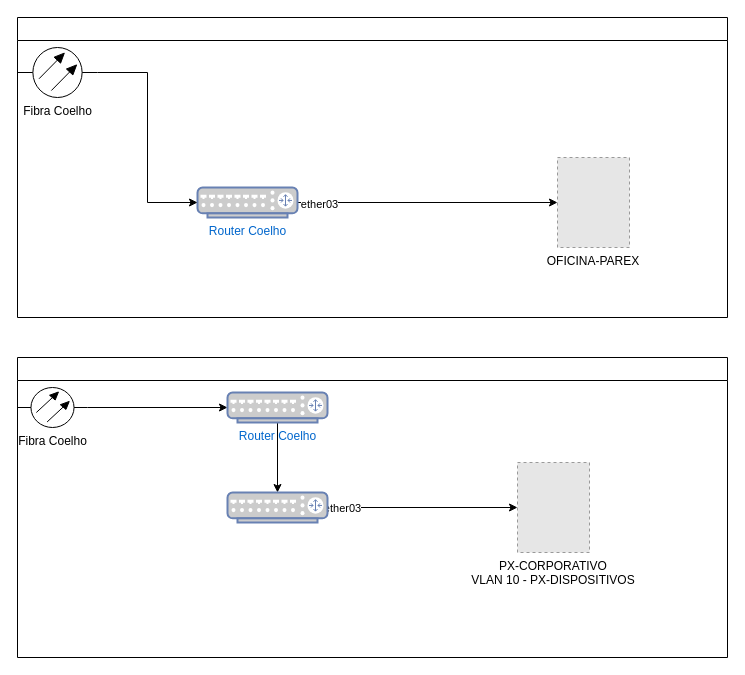
Image size: 745x675. Some labels were removed from this diagram. Grey dashed boxes stand in for pictures. The shapes that lost their labels are listed below. From the top down, each one's box as (x1, y1, x2, y2) in pixels, then its label:
(16, 16, 728, 318): INFRAESTRUTURA PAREX - OFICINA S11D - OLD
(226, 491, 328, 523): PX-CORPORATIVO VLAN 10 - PX-DISPOSITIVO
(16, 356, 728, 658): INFRAESTRUTURA PAREX - OFICINA S11D - ATUAL
